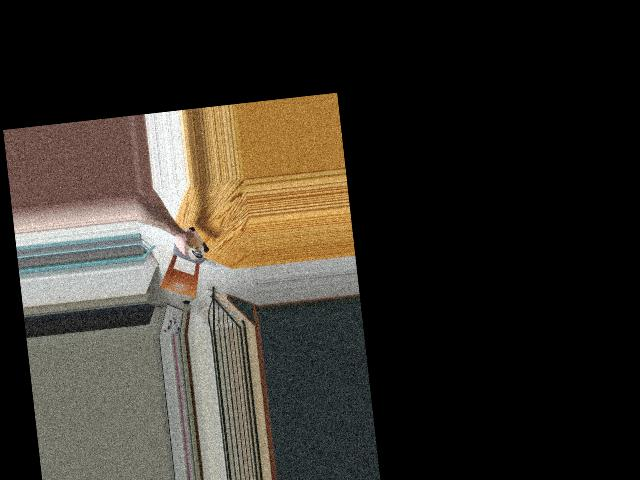cheese: (173, 222, 209, 262)
